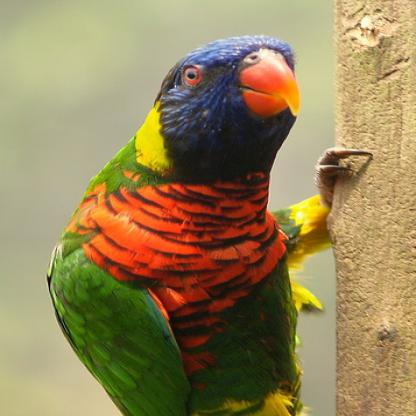bird: (49, 38, 373, 415)
